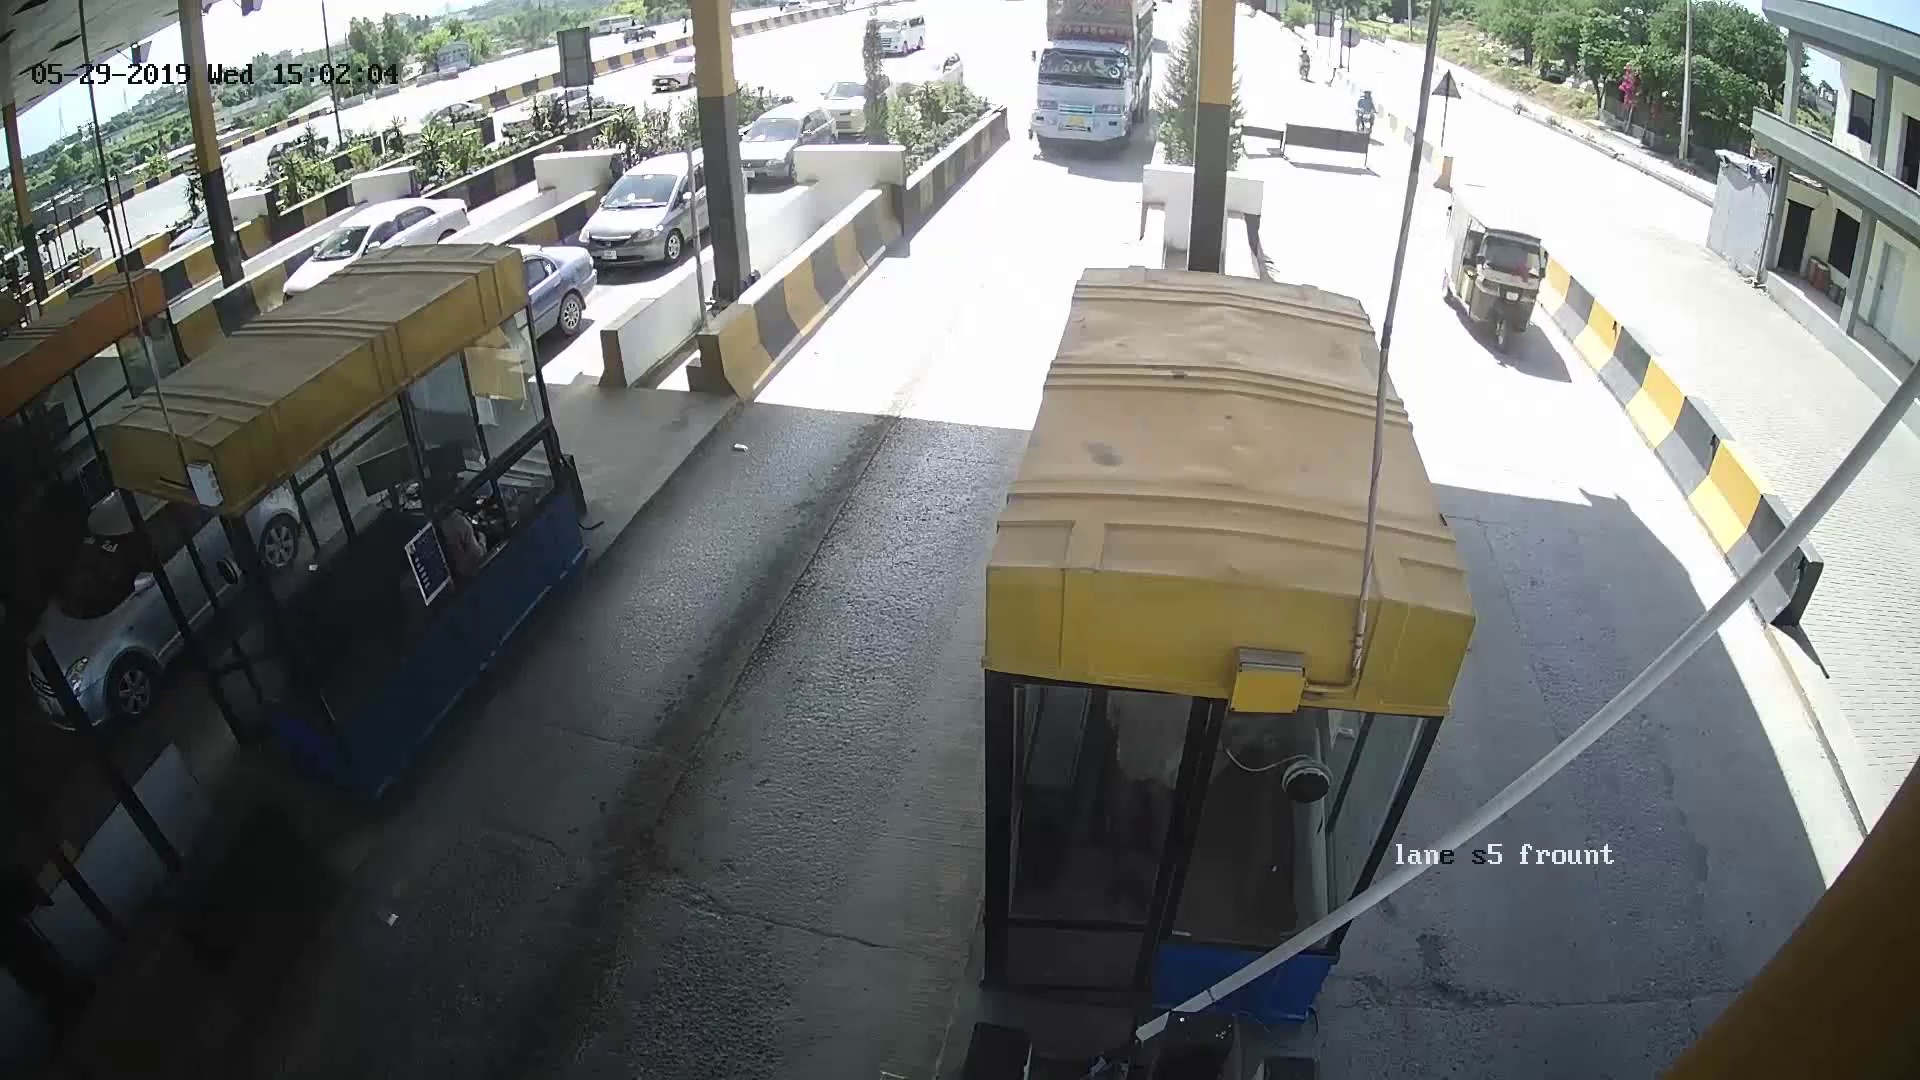truck: (1009, 9, 1164, 174)
